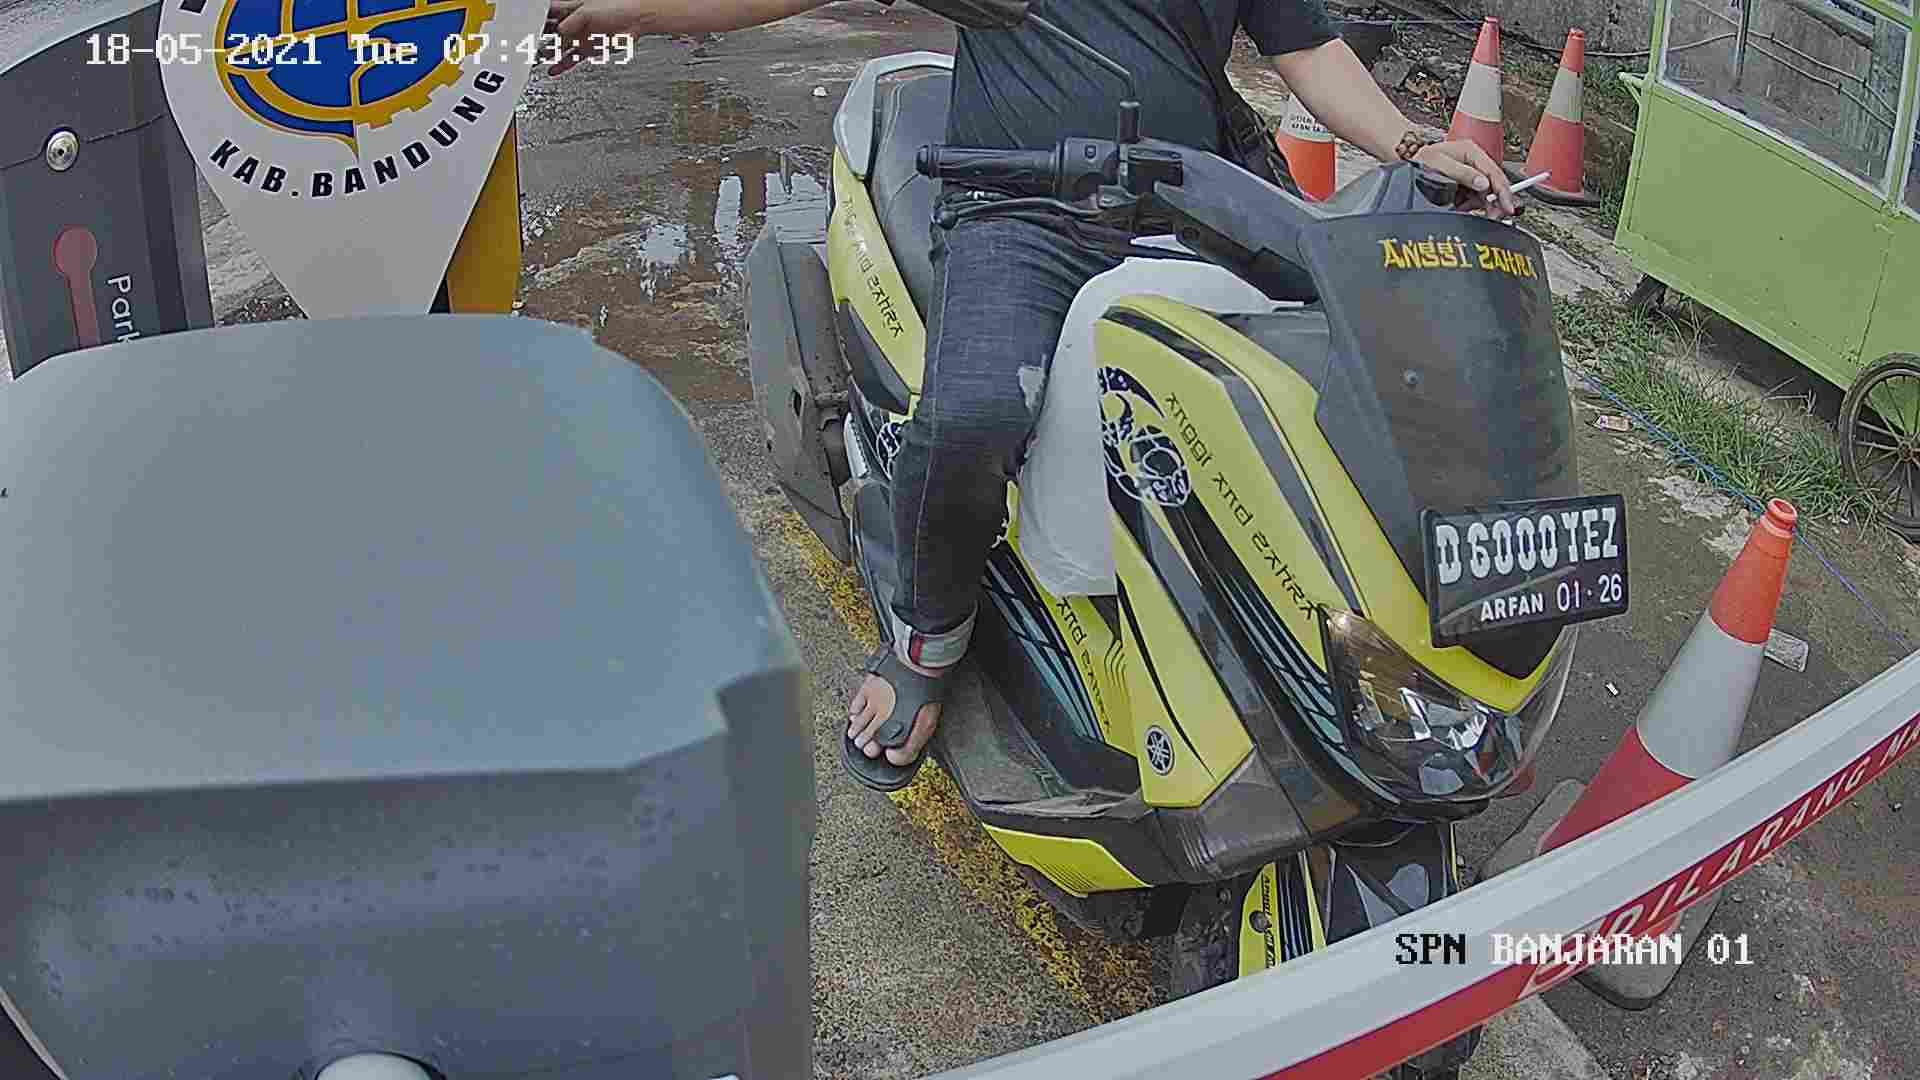motor: (756, 33, 1630, 967)
